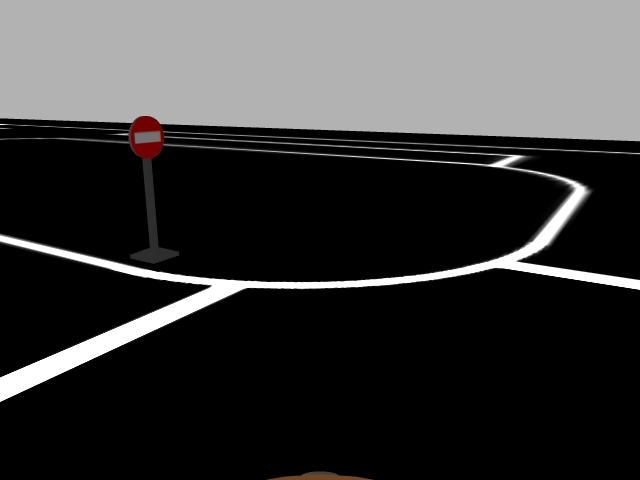prohibited: (128, 115, 165, 161)
